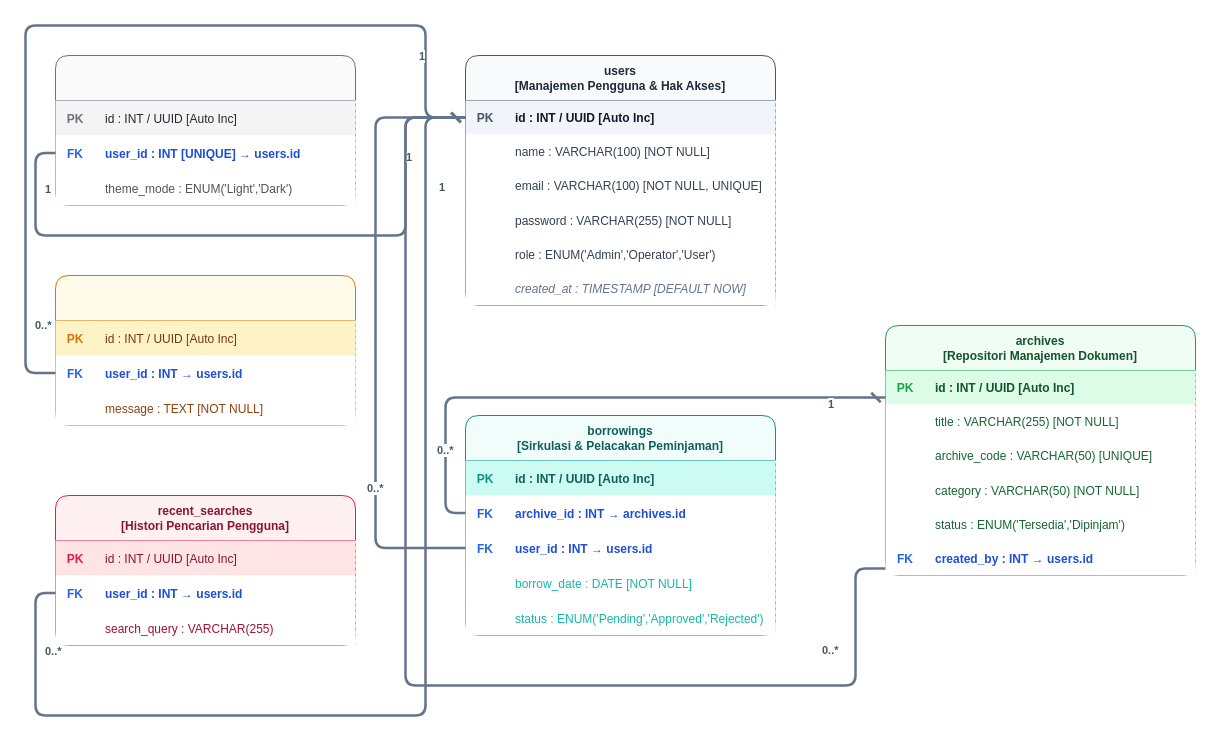
This 1213x742 diagram has some shape labels left out. The box of each missing label's shape, as (x1, y1, x2, y2) in pixels:
notifications [Notifikasi Sesi & Alur Kerja]: (54, 274, 356, 426)
user_settings [Preferensi & Layout Grid]: (54, 54, 356, 206)
